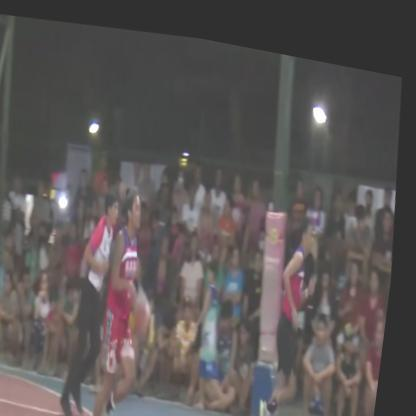basketball: (131, 276, 166, 347)
